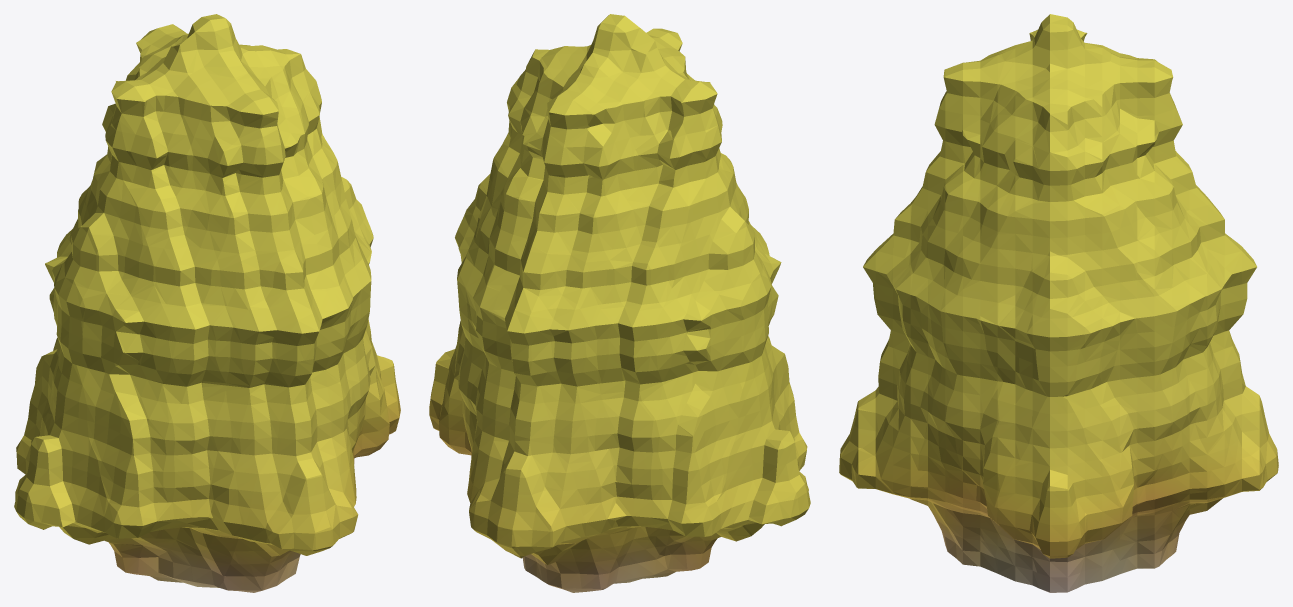
The picture shows the model from 3 angles, left to right: view 1: azimuth 30°, elevation 25°; view 2: azimuth 150°, elevation 25°; view 3: azimuth 270°, elevation 25°; orthographic projection.
Parts seen in each view (by area): view 1: geometry_0; view 2: geometry_0; view 3: geometry_0.
Boxes of the visible parts, x1=… form: geometry_0: x1=14, y1=14, x2=400, y2=592; geometry_0: x1=429, y1=14, x2=810, y2=592; geometry_0: x1=839, y1=14, x2=1278, y2=592.
Size of the model in its own units: 1.06 by 1.48 by 1.07.
